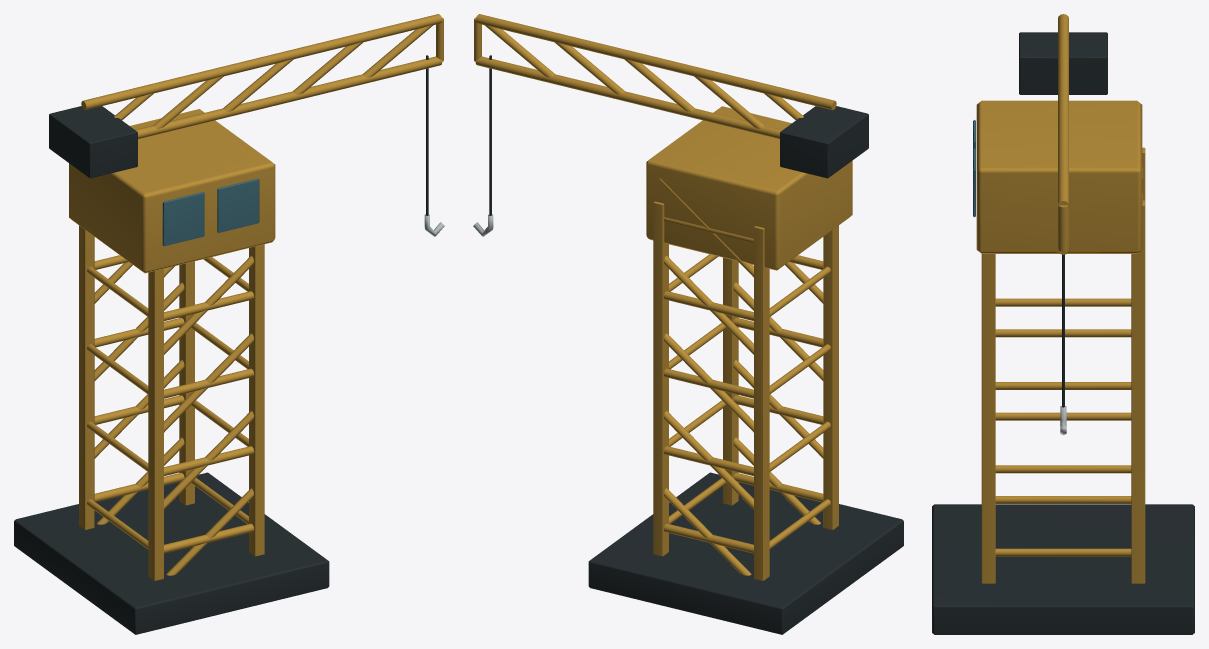
File: S098_crane_tower_rebuilt.glb
3 views of the same model, side by side, from view 1: azimuth 30°, elevation 25°; view 2: azimuth 150°, elevation 25°; view 3: azimuth 270°, elevation 25° (orthographic). The views are drawn at different scales.
Parts seen in each view (by area): view 1: Crane_ochre_paint, dark, glass; view 2: Crane_ochre_paint, dark; view 3: Crane_ochre_paint, dark.
Part boxes in pixels (box(x1,y1,x2,y2)): Crane_ochre_paint: box(69, 14, 443, 580); dark: box(14, 55, 428, 634); glass: box(162, 178, 259, 246); Crane_ochre_paint: box(474, 14, 852, 580); dark: box(489, 55, 903, 634); Crane_ochre_paint: box(976, 14, 1145, 583); dark: box(932, 32, 1194, 634).
Size of the model in its own units: 2.57 by 3.19 by 1.45.
